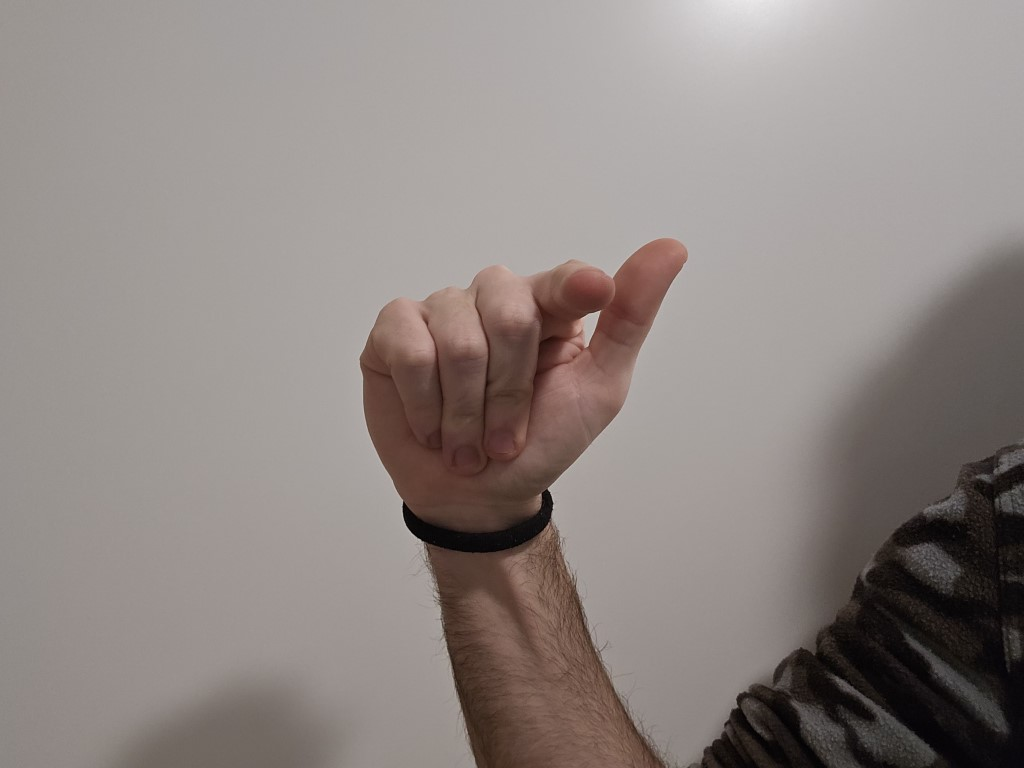t: (312, 187, 709, 501)
